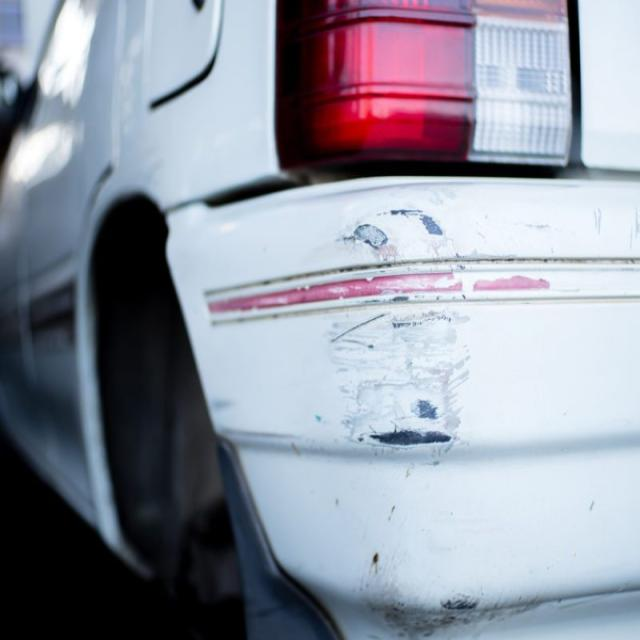Scratch: (331, 208, 475, 451)
